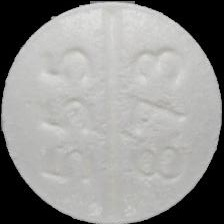33261-740: (0, 0, 224, 224)
